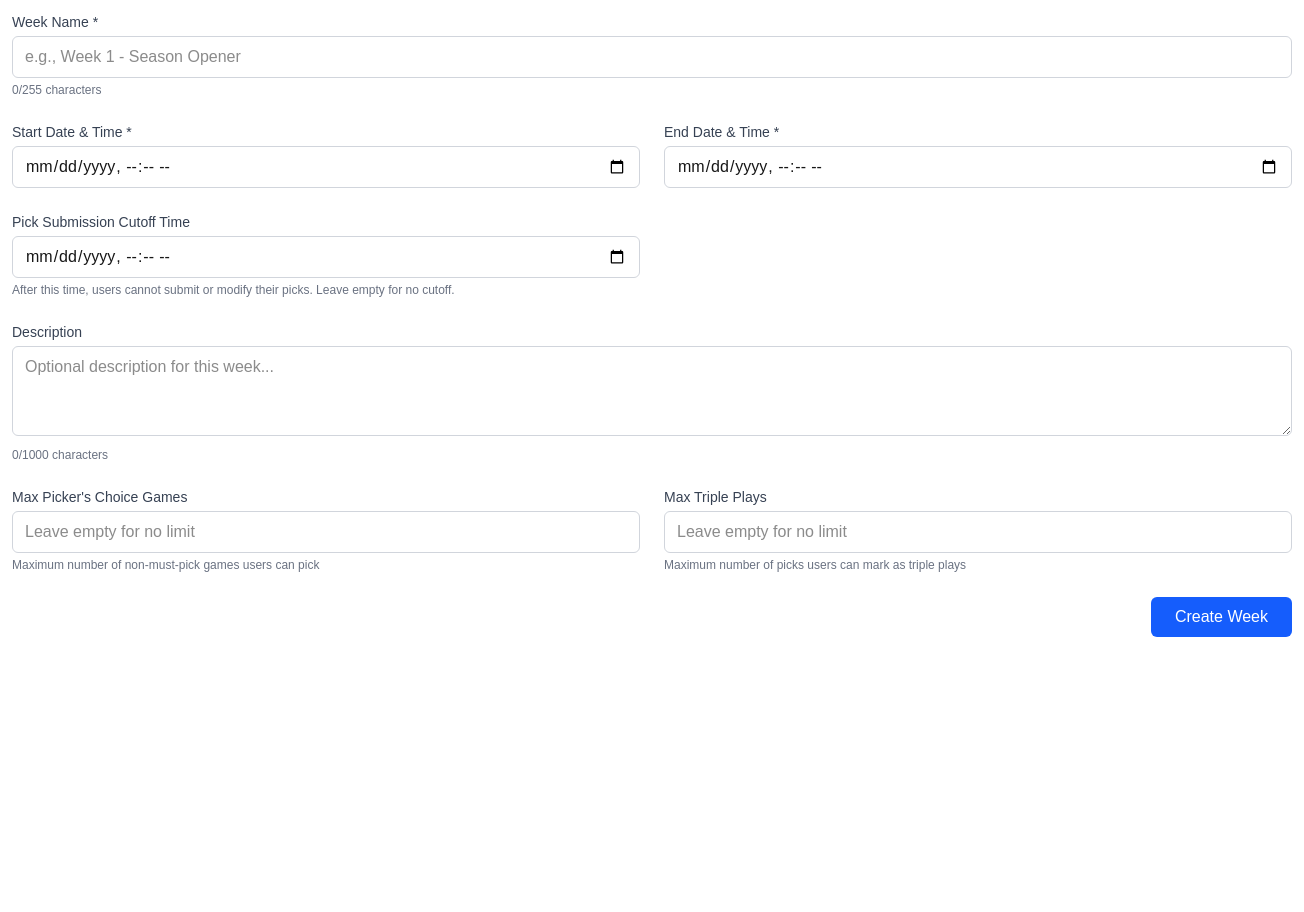
WeekForm › should clear errors when user starts typing
Note: Submit empty form to trigger validation errors
Click the button "Create Week": (1221, 617) x1=1151 y1=597 x2=1292 y2=637
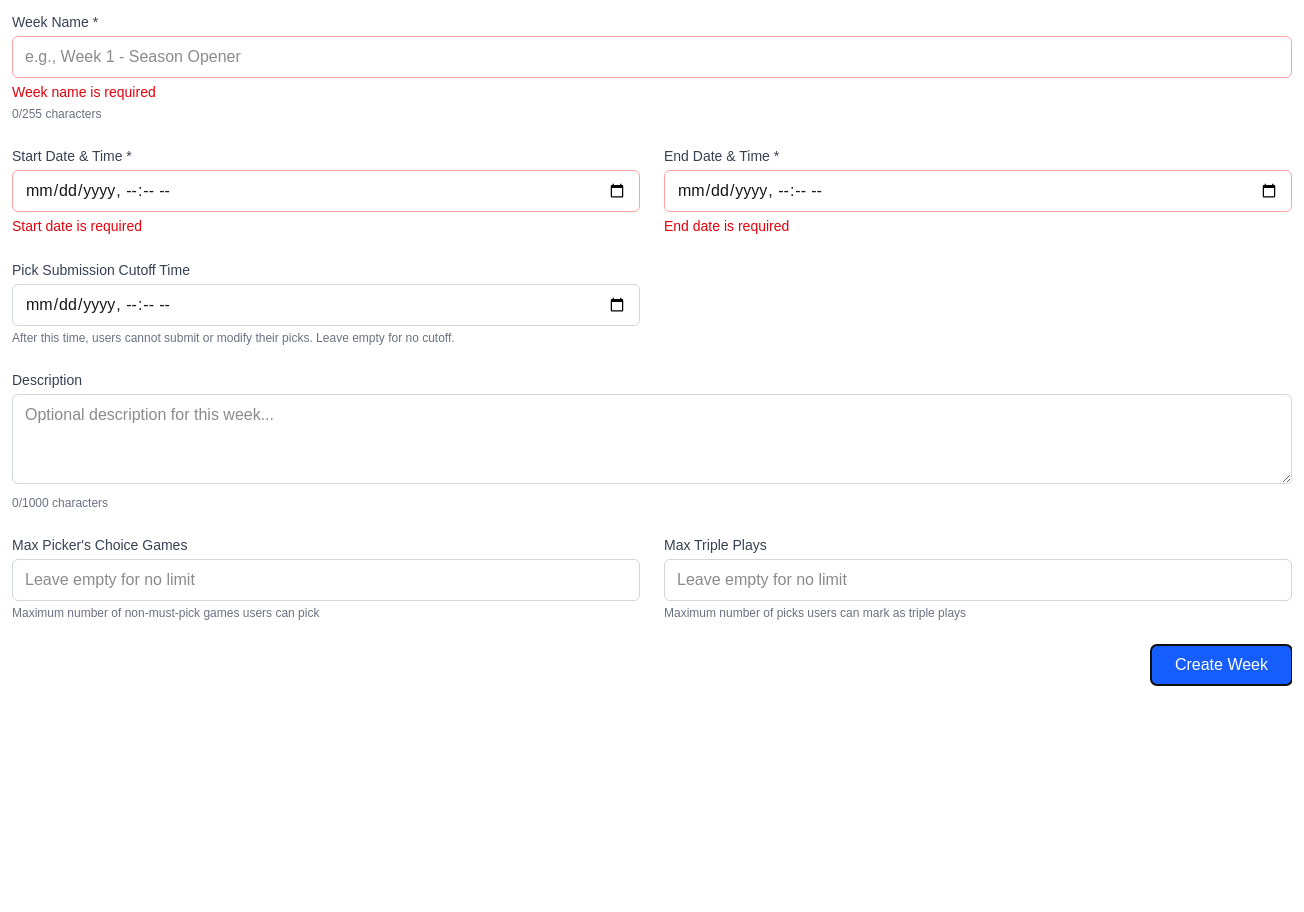
Expected: the text "Week name is required" is shown, x1=12 y1=84 x2=156 y2=100
Note: Start typing in name field
In the field labelled "Week Name *": (652, 57) x1=12 y1=36 x2=1292 y2=78, type "T"
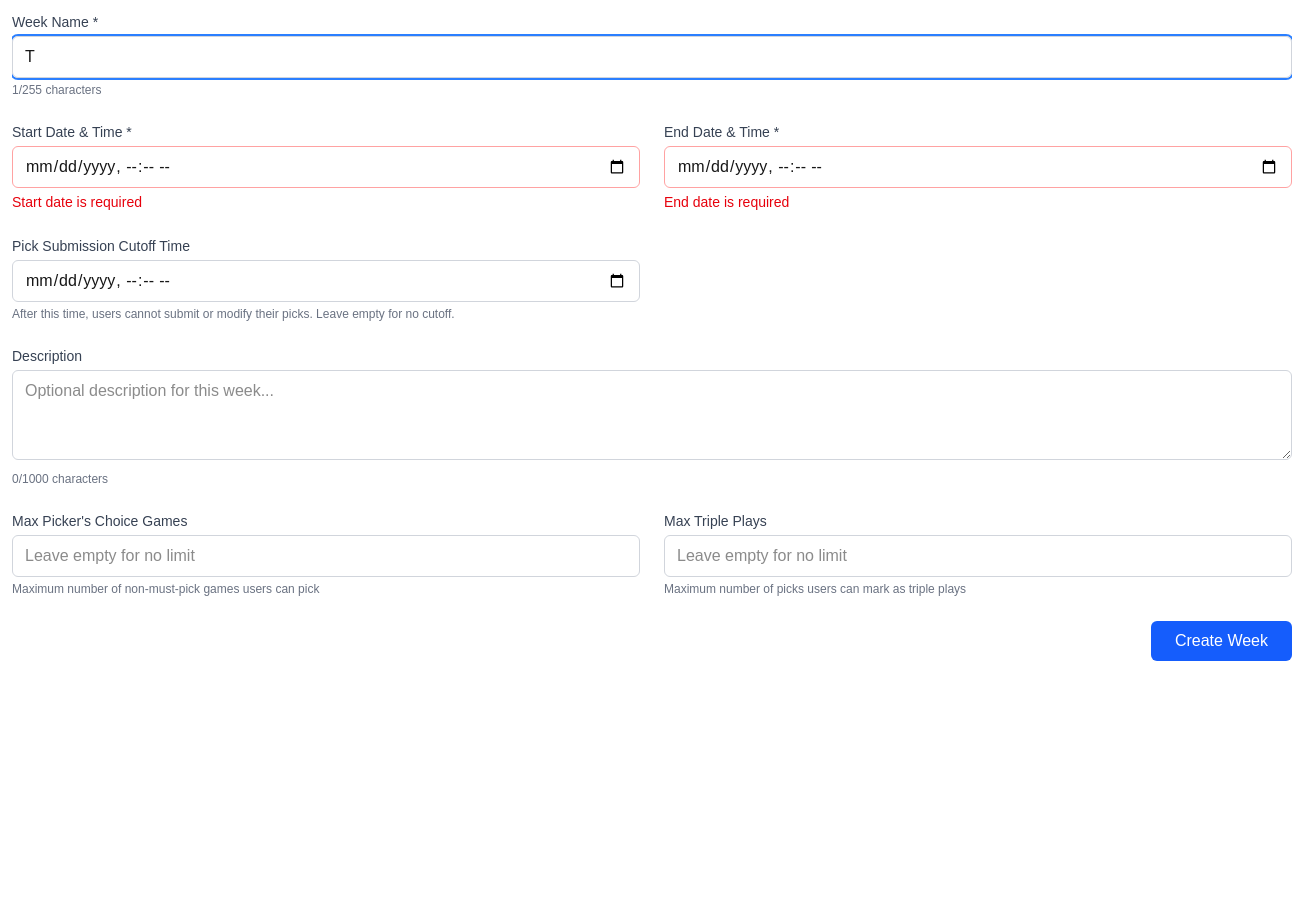
Expected: the text "Week name is required" is gone
